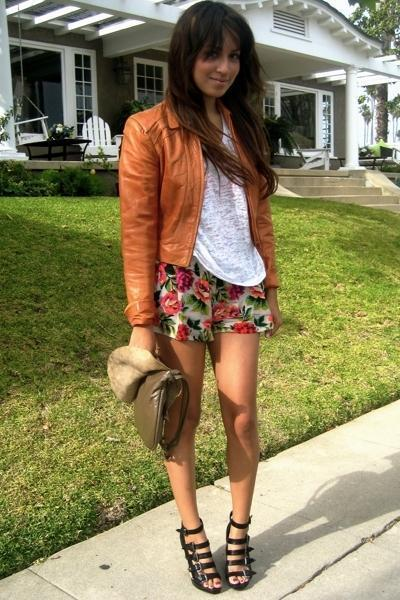jacket: (108, 101, 281, 323)
shirt: (193, 117, 265, 288)
shoe: (176, 516, 254, 570)
shorts: (148, 253, 271, 360)
